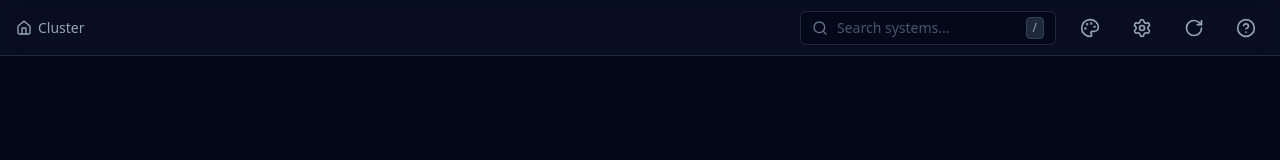
Navigation component › announces when a search has no results
Type "zzz" into the dropdown.
click(928, 28); type("zzz")  # box [800,10,1056,44]
Wait 200 ms
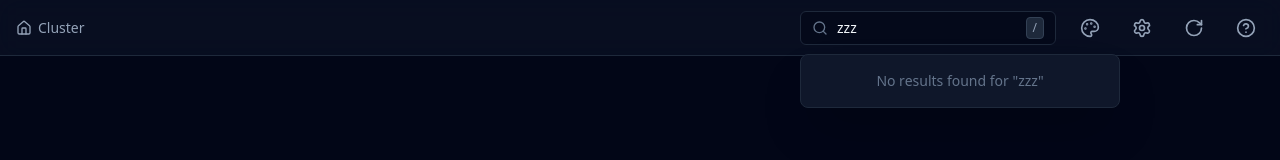
expect the message reads "No results found for \"zzz\"": met, box [876,70,1044,90]
